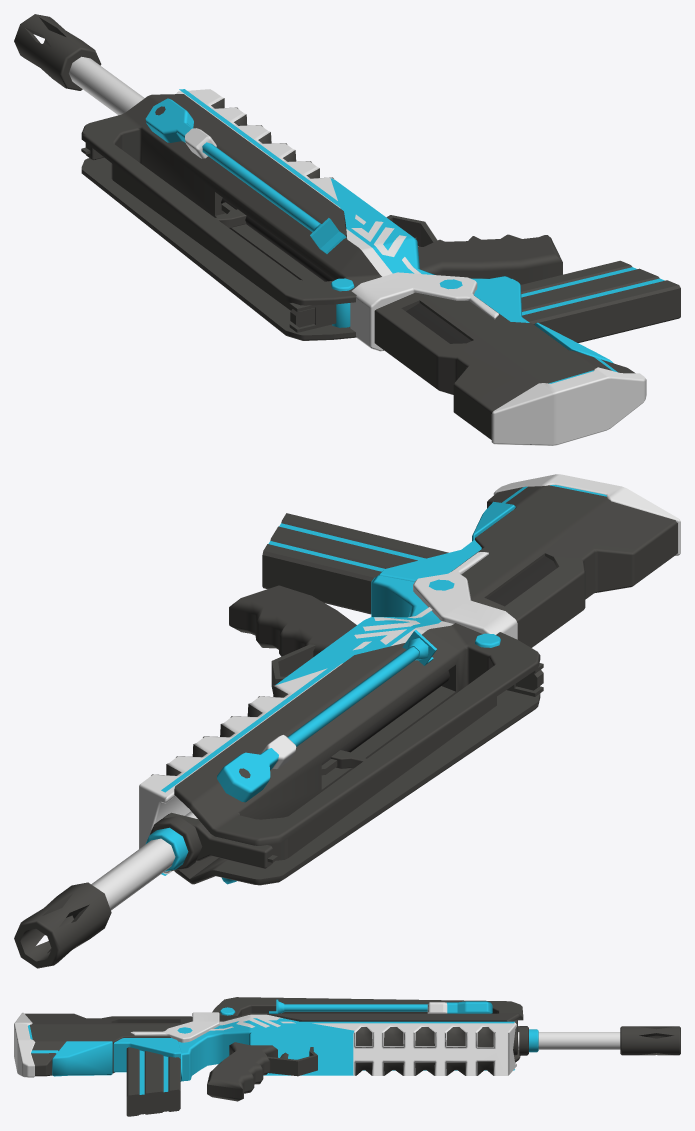
The model's file is asuna.glb.
3 renders of one model, top to bottom at view 1: azimuth 30°, elevation 25°; view 2: azimuth 150°, elevation 25°; view 3: azimuth 270°, elevation 25°, orthographic. The views are drawn at different scales.
Parts seen in each view (by area): view 1: Asuna_Original_Weapon; view 2: Asuna_Original_Weapon; view 3: Asuna_Original_Weapon.
Boxes of the visible parts, x1,y1,x2,y2 form: Asuna_Original_Weapon: [14, 14, 680, 445]; Asuna_Original_Weapon: [14, 474, 680, 968]; Asuna_Original_Weapon: [14, 997, 680, 1116].
Size of the model in its own units: 0.2196 by 0.0735 by 0.6435.
1 material, 1 textured.
